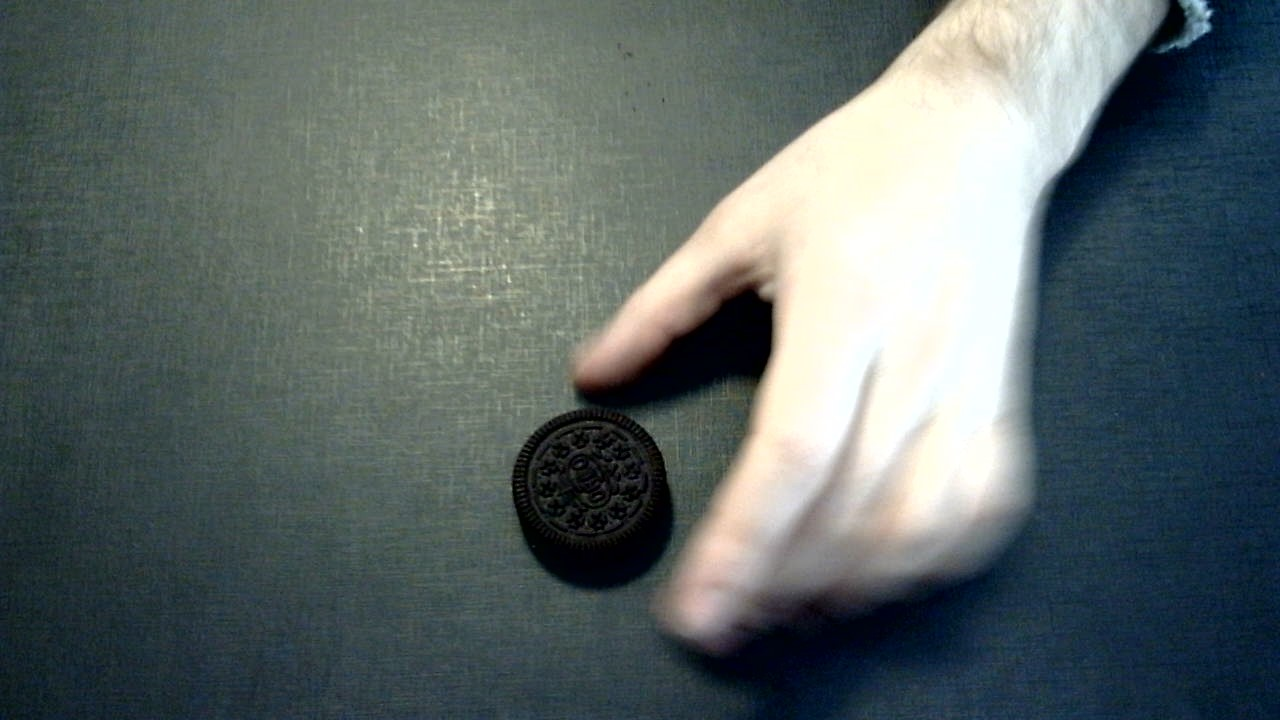oreo: (512, 410, 668, 553)
